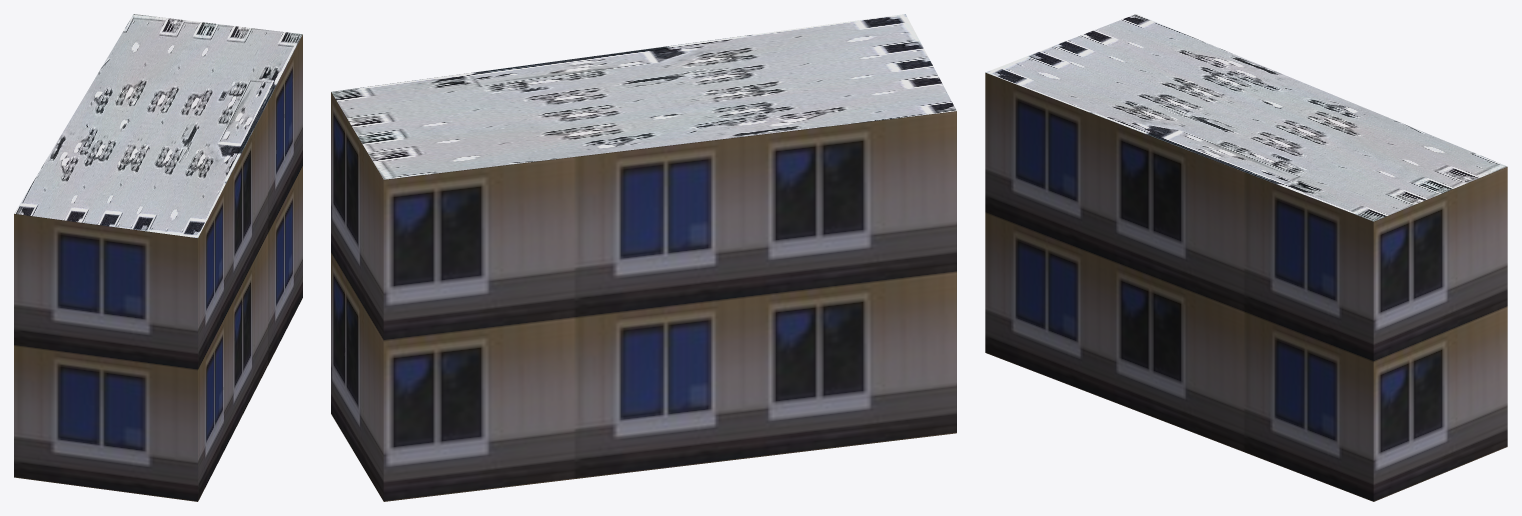
File: ResTex__1437.fbx
The picture shows the model from 3 angles, left to right: view 1: azimuth 30°, elevation 25°; view 2: azimuth 150°, elevation 25°; view 3: azimuth 270°, elevation 25°; orthographic projection. The views are drawn at different scales.
Visible parts, largest first — view 1: CityEngineMaterial_5_m, CityEngineMaterial_2_m; view 2: CityEngineMaterial_5_m, CityEngineMaterial_2_m; view 3: CityEngineMaterial_5_m, CityEngineMaterial_2_m.
Boxes of the visible parts, x1=… form: CityEngineMaterial_5_m: x1=14, y1=34, x2=302, y2=501; CityEngineMaterial_2_m: x1=14, y1=14, x2=302, y2=237; CityEngineMaterial_5_m: x1=331, y1=92, x2=956, y2=501; CityEngineMaterial_2_m: x1=331, y1=14, x2=956, y2=179; CityEngineMaterial_5_m: x1=985, y1=72, x2=1507, y2=501; CityEngineMaterial_2_m: x1=985, y1=14, x2=1507, y2=221.
Bounding box in the file's own units: 9.53 × 6 × 10.14.
2 materials, 2 textured.
